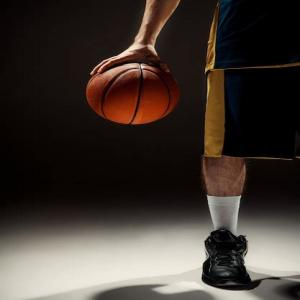Basket: (85, 60, 180, 126)
